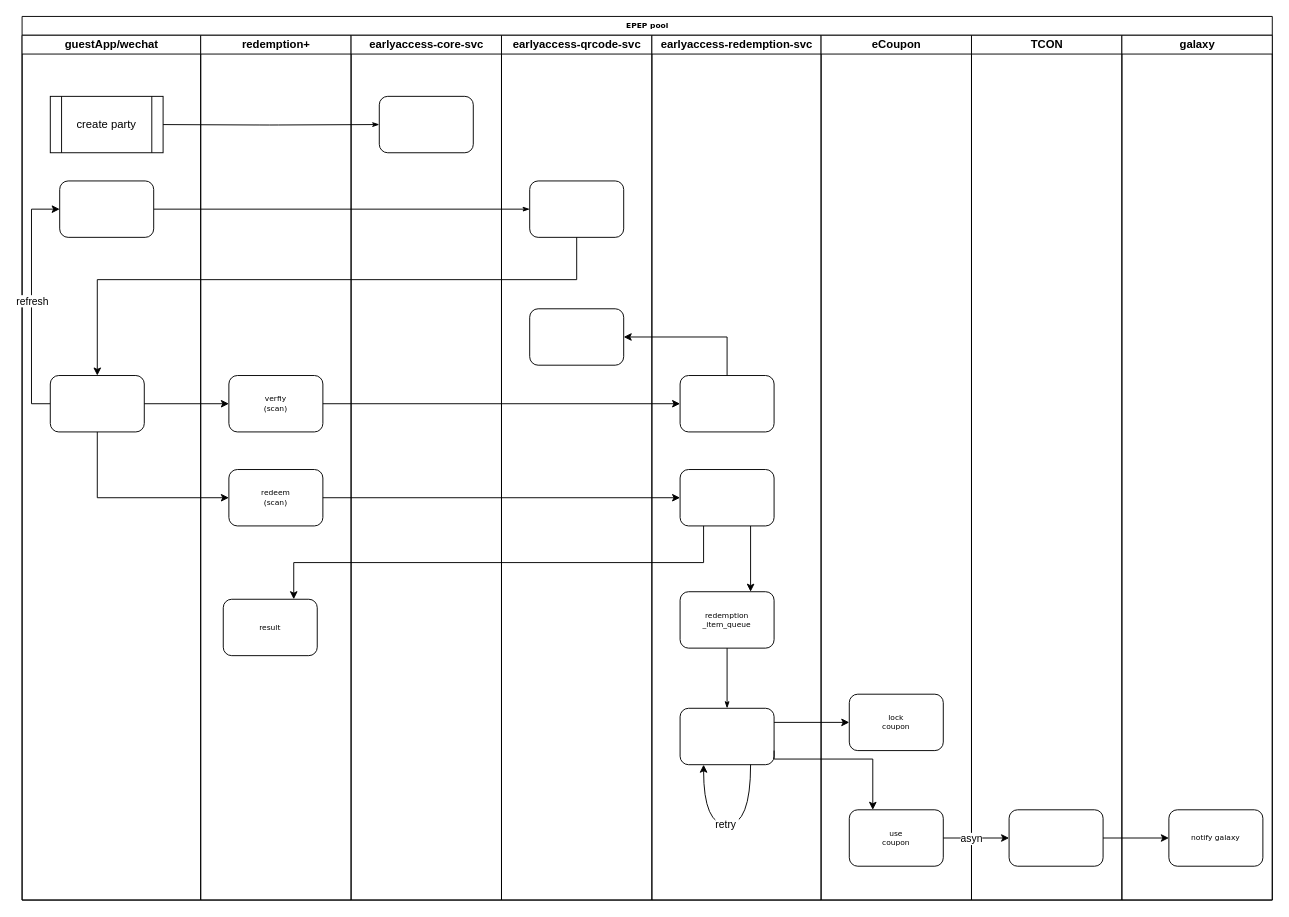
Image size: 1289x917. Some labels were removed from this diagram. The centre of each missing label's shape, as x and y in pixels:
/eligible/check-eligibility: the point at 425,124
asyc call eCoupon: the point at 726,736
fetch qrcode: the point at 106,208
generate qrcode: the point at 576,208
notify tcon: the point at 1055,837
redeem epep: the point at 726,497
show qrcode: the point at 96,403
verfiy epep: the point at 726,403
verfiy qrcode: the point at 576,336
